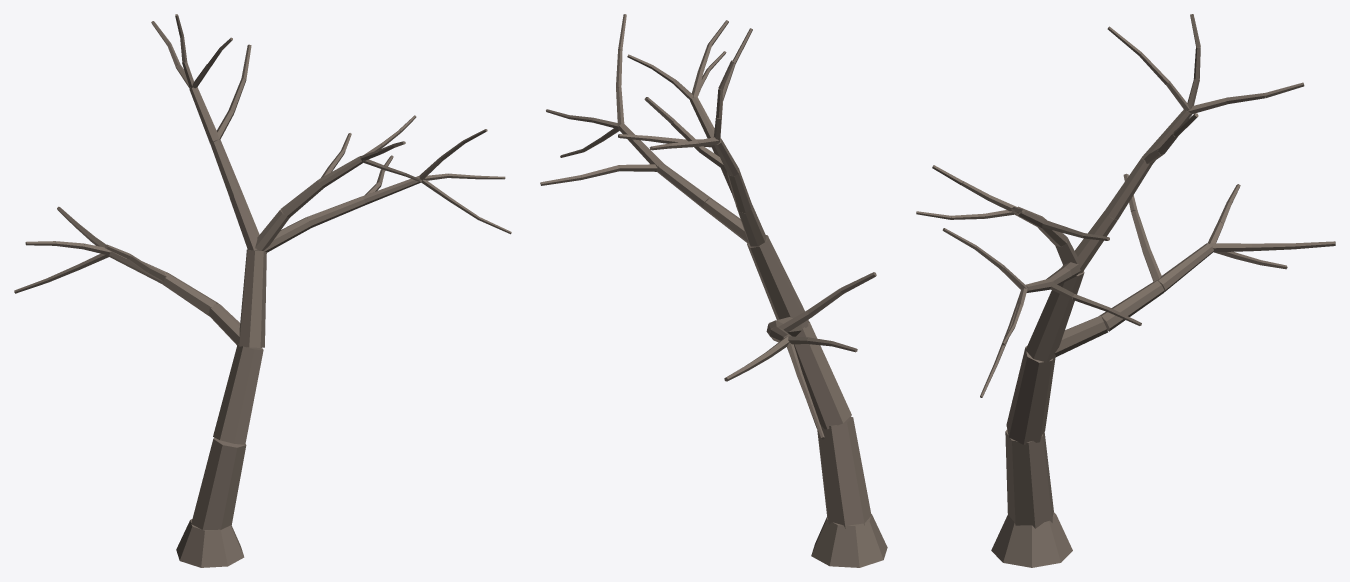
Rendered from dead_tree_large.glb.
3 renders of one model, left to right at view 1: azimuth 30°, elevation 25°; view 2: azimuth 150°, elevation 25°; view 3: azimuth 270°, elevation 25°, orthographic. The views are drawn at different scales.
Visible parts, largest first — view 1: bark; view 2: bark; view 3: bark.
Boxes of the visible parts, left/top/right/bottom form: bark: left=14, top=14, right=511, bottom=567; bark: left=540, top=14, right=887, bottom=567; bark: left=916, top=14, right=1335, bottom=567.
Bounding box in the file's own units: 6.3 × 7.65 × 5.22.
